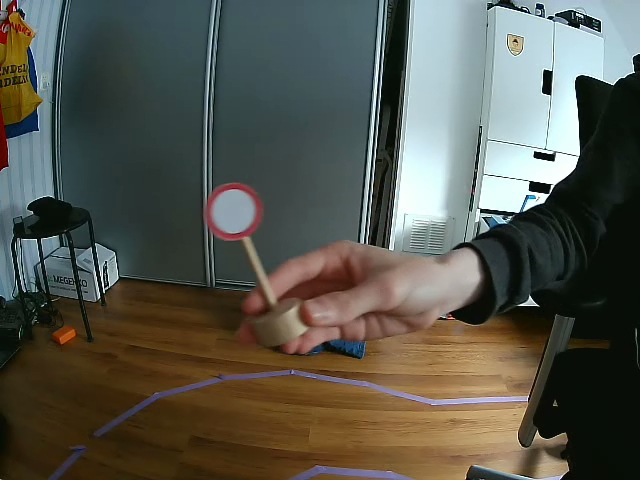wegdicht: (205, 183, 264, 243)
